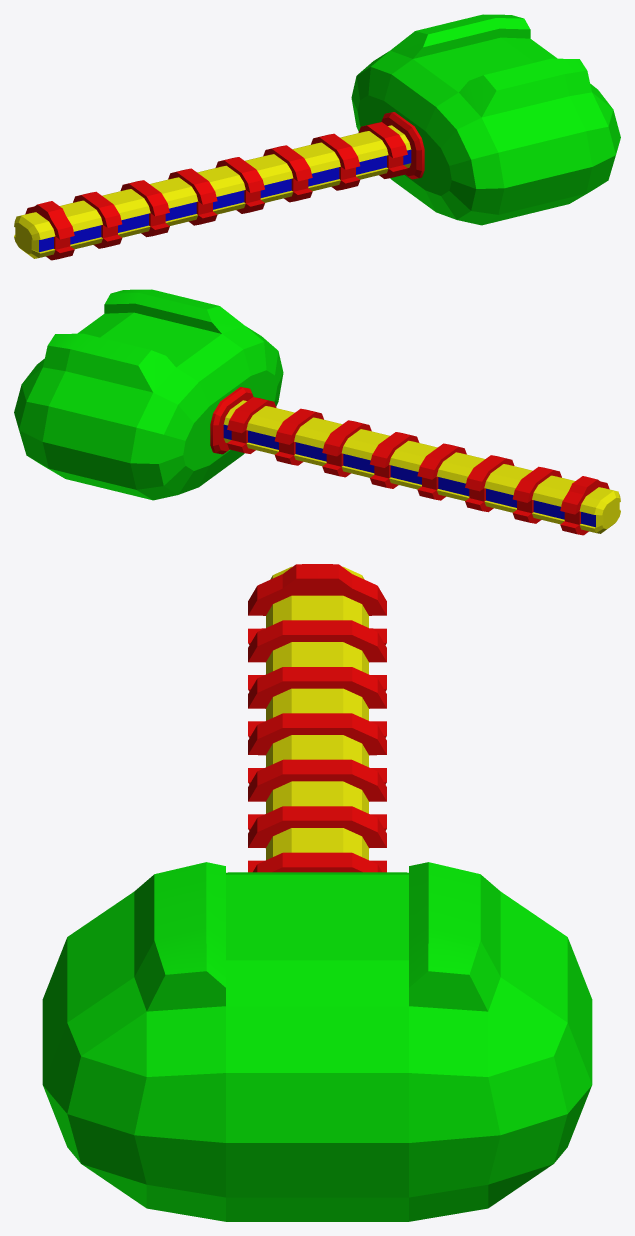
Rendered from Turret_B_SM.fbx.
3 views of the same model, one above another, from view 1: azimuth 30°, elevation 25°; view 2: azimuth 150°, elevation 25°; view 3: azimuth 270°, elevation 25° (orthographic). The views are drawn at different scales.
Visible parts, largest first — view 1: Turret_B_SM:polySurface1; view 2: Turret_B_SM:polySurface1; view 3: Turret_B_SM:polySurface1.
Boxes of the visible parts, box(x1,y1,x2,y2) form: Turret_B_SM:polySurface1: box(14, 14, 620, 260); Turret_B_SM:polySurface1: box(14, 289, 620, 535); Turret_B_SM:polySurface1: box(42, 564, 592, 1221).
Size of the model in its own units: 18.82 by 4.52 by 8.
